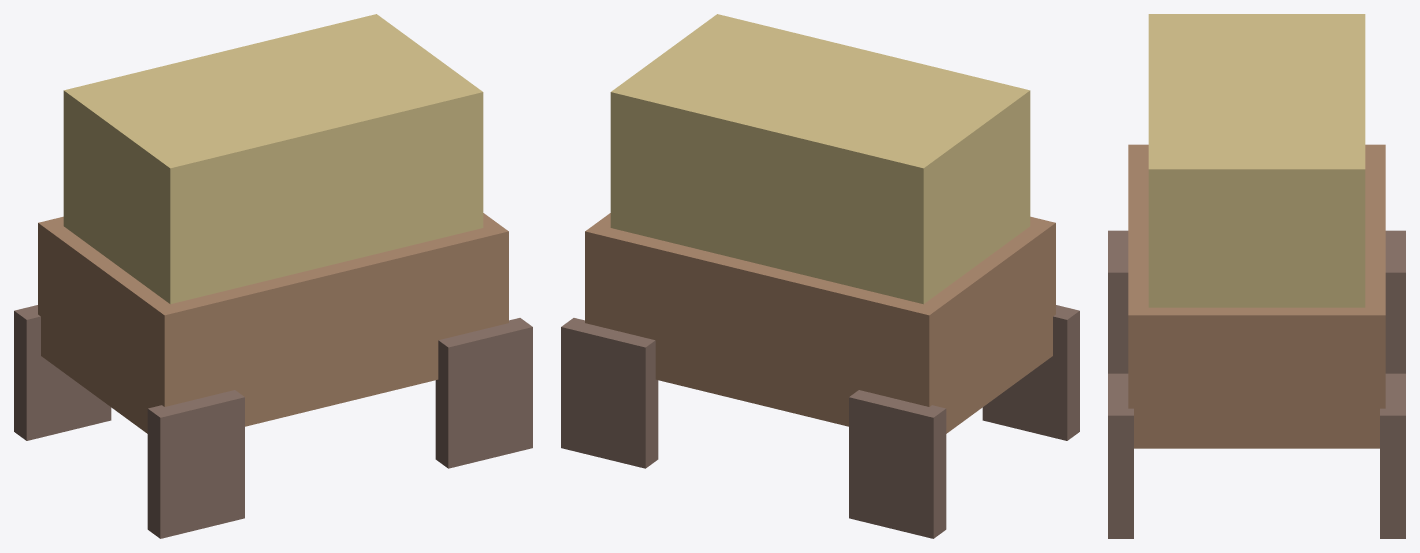
Rendered from hay_cart.glb.
3 views of the same model, side by side, from view 1: azimuth 30°, elevation 25°; view 2: azimuth 150°, elevation 25°; view 3: azimuth 270°, elevation 25° (orthographic).
Visible parts, largest first — view 1: straw, wood, wood_dark; view 2: straw, wood, wood_dark; view 3: straw, wood, wood_dark.
Boxes of the visible parts, bbox=[...] form: straw: bbox=[63, 14, 483, 304]; wood: bbox=[38, 213, 508, 433]; wood_dark: bbox=[14, 305, 532, 538]; straw: bbox=[610, 14, 1030, 304]; wood: bbox=[585, 213, 1055, 433]; wood_dark: bbox=[561, 305, 1079, 538]; straw: bbox=[1148, 14, 1365, 307]; wood: bbox=[1128, 144, 1385, 448]; wood_dark: bbox=[1108, 230, 1405, 538].
Bounding box in the file's own units: 2.38 × 2.13 × 1.62.
